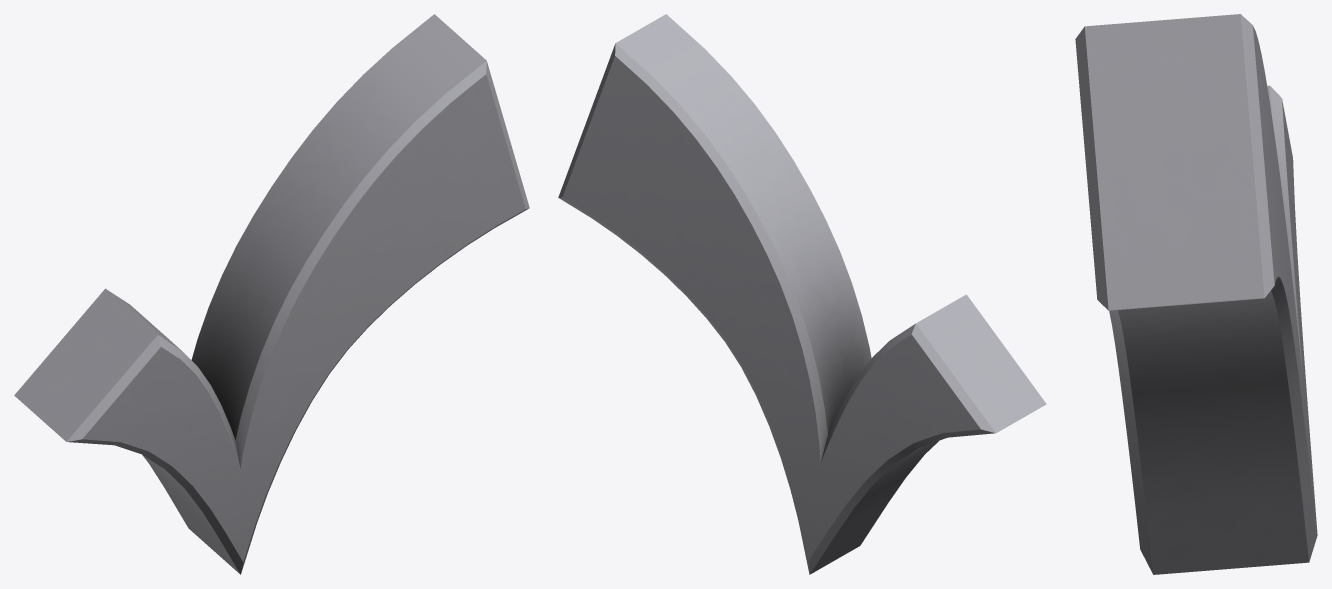
Rendered from correct.FBX.
3 views of the same model, side by side, from view 1: azimuth 30°, elevation 25°; view 2: azimuth 150°, elevation 25°; view 3: azimuth 270°, elevation 25° (orthographic). The views are drawn at different scales.
Visible parts, largest first — view 1: correct; view 2: correct; view 3: correct.
Part boxes in pixels (left/top/right/bottom): correct: left=14, top=14, right=529, bottom=574; correct: left=558, top=14, right=1046, bottom=574; correct: left=1075, top=14, right=1317, bottom=574.
Bounding box in the file's own units: 146 × 148 × 44.88.
